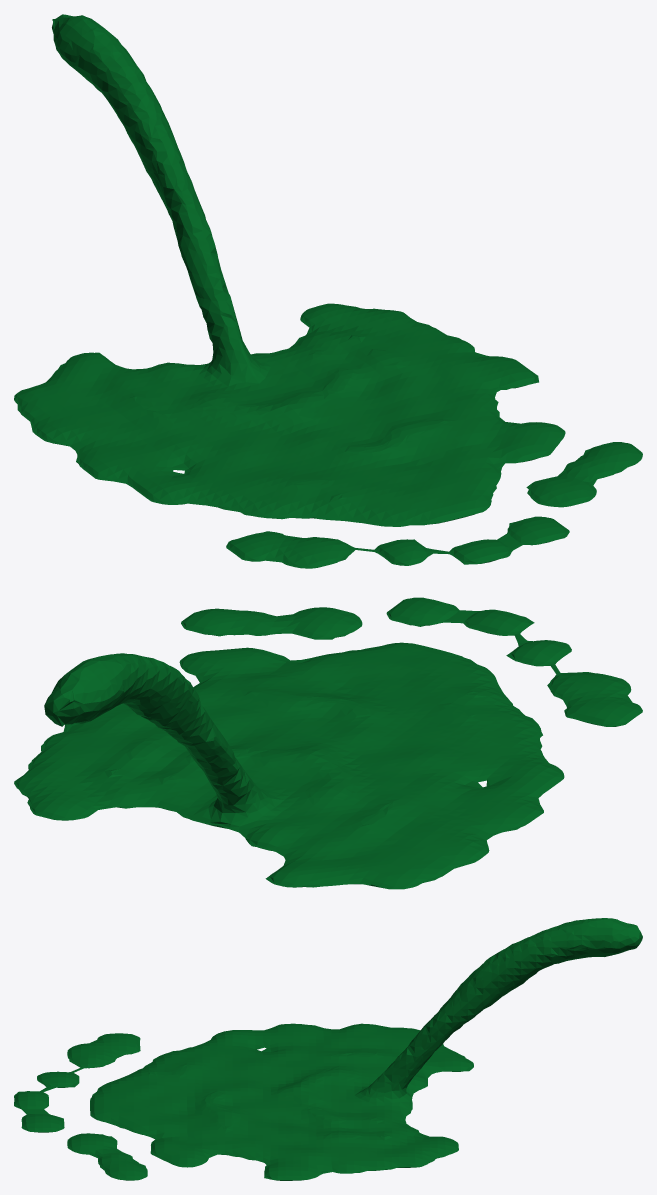
Rendered from fluid_10.fbx.
The picture shows the model from 3 angles, top to bottom: view 1: azimuth 30°, elevation 25°; view 2: azimuth 150°, elevation 25°; view 3: azimuth 270°, elevation 25°; orthographic projection. The views are drawn at different scales.
Visible parts, largest first — view 1: Cube; view 2: Cube; view 3: Cube.
Part boxes in pixels (x1,y1,x2,y2): Cube: (14,14,642,568); Cube: (14,597,642,889); Cube: (14,918,642,1180).
Bounding box in the file's own units: 319 × 177 × 544.
